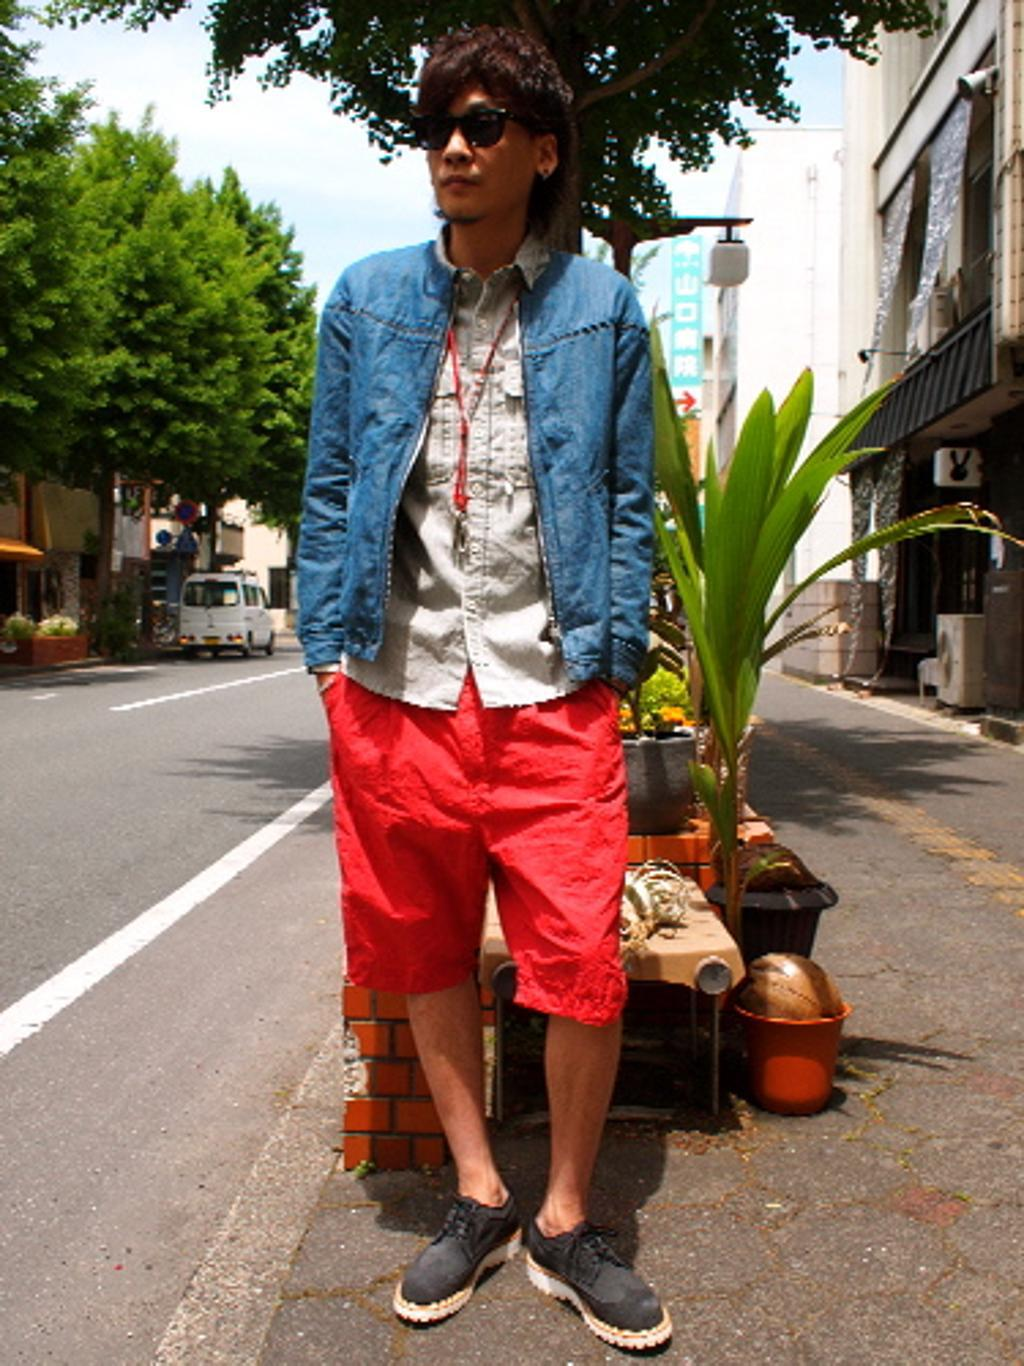face: (425, 76, 518, 215)
